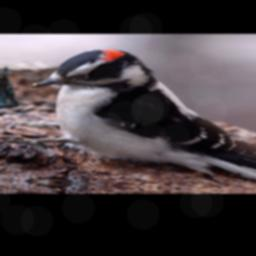Woodpecker: (11, 42, 256, 186)
